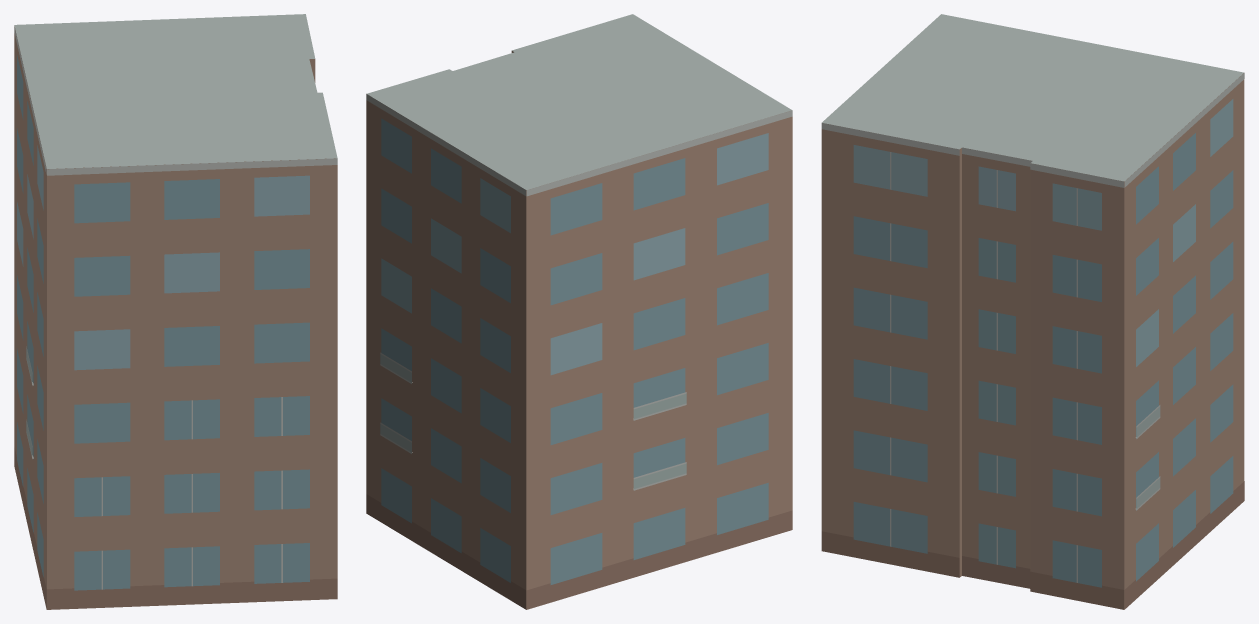
The model's file is survey-upis-33033438.glb.
3 renders of one model, left to right at view 1: azimuth 30°, elevation 25°; view 2: azimuth 150°, elevation 25°; view 3: azimuth 270°, elevation 25°, orthographic. The views are drawn at different scales.
Parts seen in each view (by area): view 1: survey-upis-33033438.tmp; view 2: survey-upis-33033438.tmp; view 3: survey-upis-33033438.tmp.
Part boxes in pixels (x1=…): survey-upis-33033438.tmp: x1=14, y1=14, x2=337, y2=609; survey-upis-33033438.tmp: x1=366, y1=14, x2=792, y2=609; survey-upis-33033438.tmp: x1=821, y1=14, x2=1244, y2=609.
Size of the model in its own units: 13.6 by 16.2 by 14.5.
